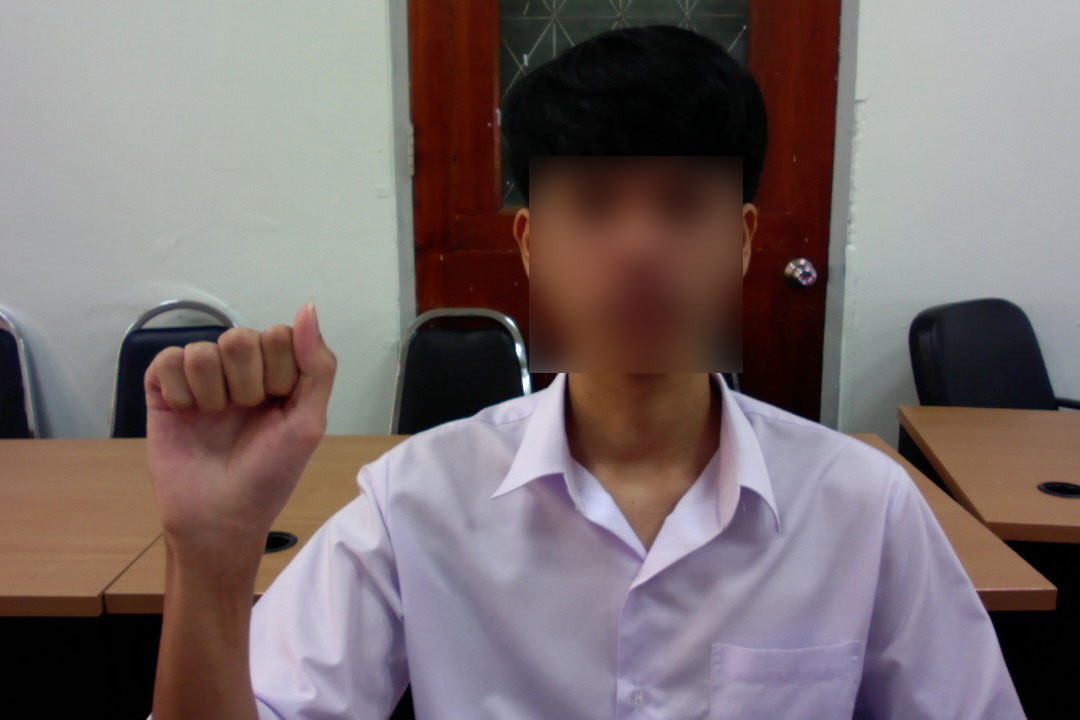or: (129, 289, 354, 560)
